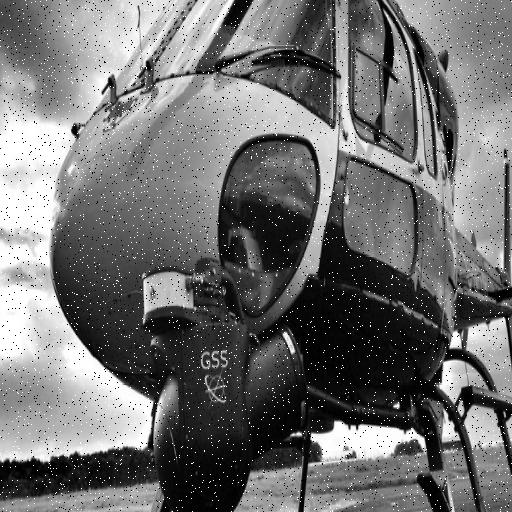helicopter: (51, 1, 512, 512)
